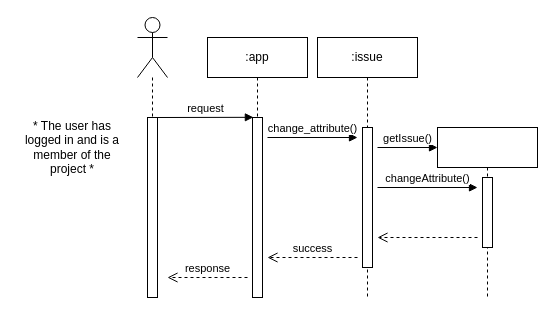
Image size: 555x315. Some labels were removed from this diagram. Each missing label, with the box of its shape:
:its_model.Issue: (436, 126, 538, 298)
User: (136, 16, 168, 78)
